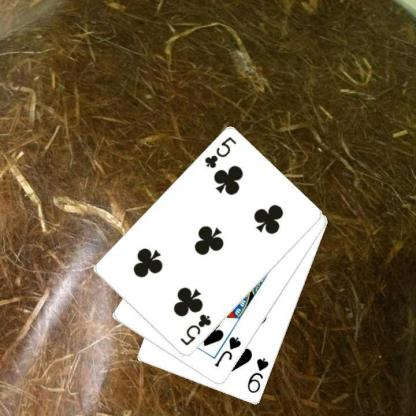5C: (201, 134, 237, 170), (178, 311, 212, 348)
9S: (245, 355, 270, 395)
JS: (212, 334, 243, 369)
